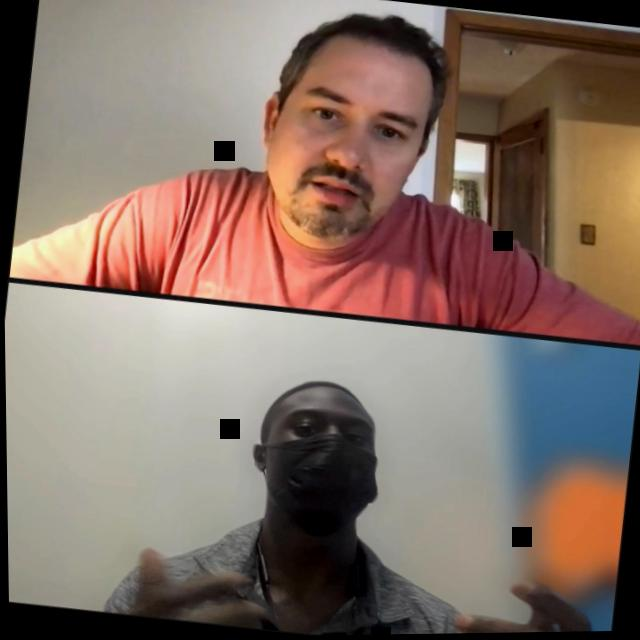Mask: (243, 377, 387, 537)
NO-Mask: (245, 23, 450, 255)
